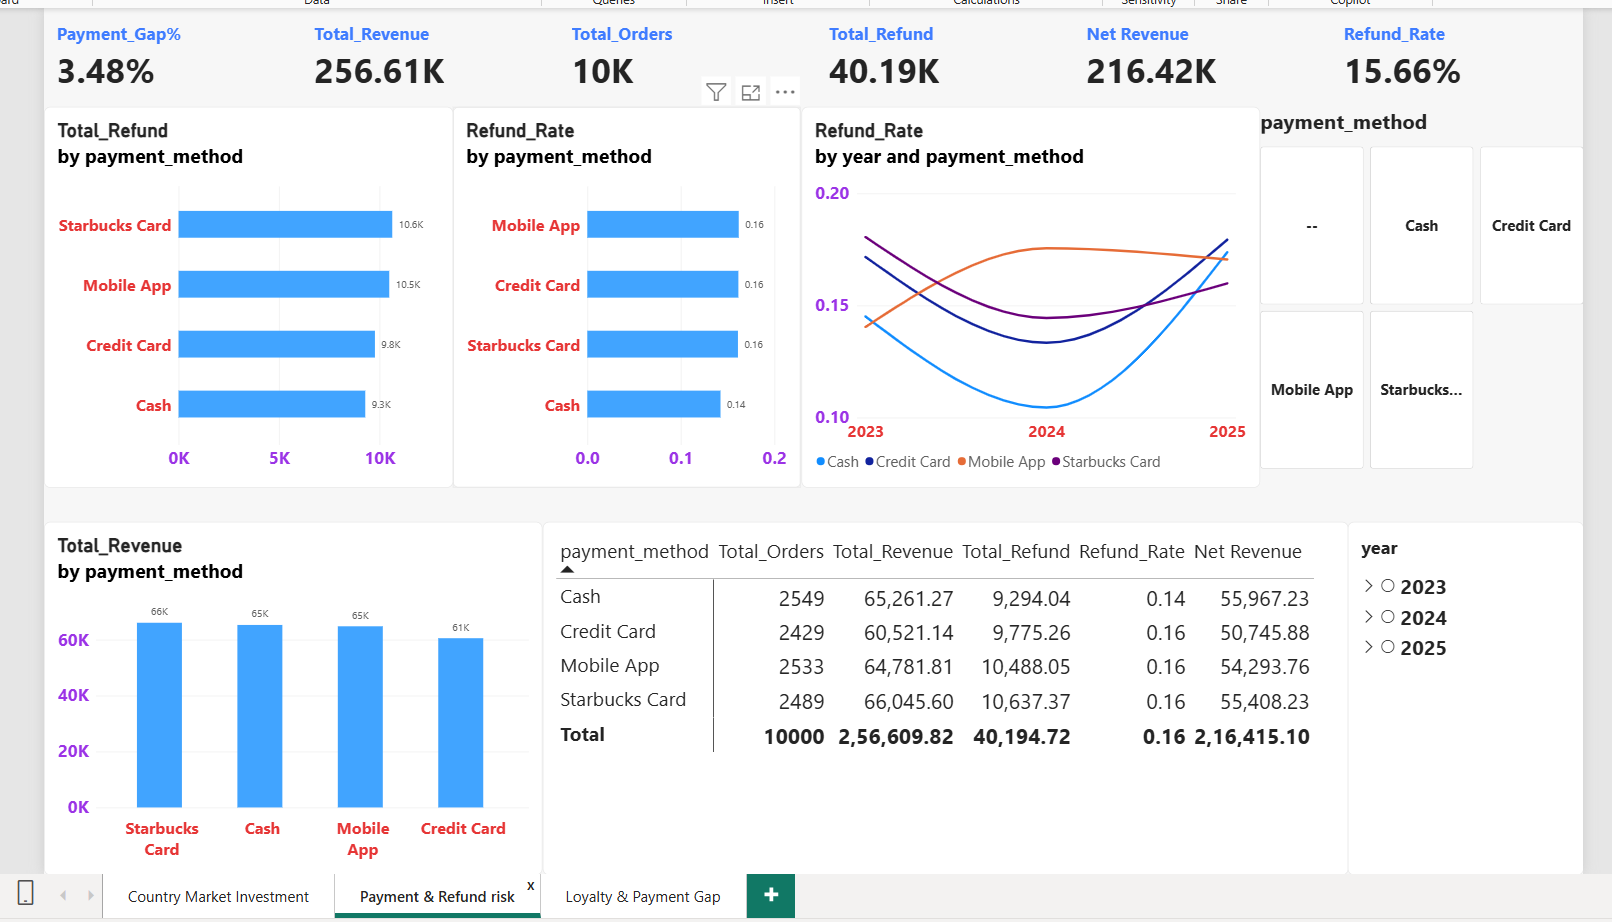

The page's visual inventory and layout, read from the dashboard file:
{"tool":"powerbi","page":{"name":"Payment & Refund risk","canvas":[1920,1080],"ordinal":1},"visuals":[{"type":"cardVisual","fields":{"Data":["public orders.Payment_Gap%","date.Total_Revenue","public orders.Total_Orders","date.Total_Refund","public orders.Net Revenue","date.Refund_Rate"]},"box":[0,0,1920.4,123.5],"z":0},{"type":"barChart","fields":{"Category":["public orders.payment_method"],"Y":["date.Refund_Rate"]},"box":[510.5,123.5,434.3,475.5],"z":1000},{"type":"barChart","fields":{"Category":["public orders.payment_method"],"Y":["date.Total_Refund"]},"box":[0,123.5,510.5,475.5],"z":2000},{"type":"clusteredColumnChart","fields":{"Category":["public orders.payment_method"],"Y":["date.Total_Revenue"]},"box":[0,640.1,621.6,440.5],"z":3000},{"type":"lineChart","fields":{"Category":["date.Date Hierarchy.year"],"Series":["public orders.payment_method"],"Y":["date.Refund_Rate"]},"box":[944.8,123.5,572.2,475.5],"z":5000},{"type":"pivotTable","fields":{"Rows":["public orders.payment_method"],"Values":["public orders.Total_Orders","date.Total_Revenue","date.Total_Refund","date.Refund_Rate","public orders.Net Revenue"]},"box":[621.6,640.1,1004.5,440.5],"z":6000},{"type":"advancedSlicerVisual","fields":{"Values":["public orders.payment_method"]},"box":[1517,123.5,403.4,452.8],"z":7000},{"type":"listSlicer","fields":{"Values":["date.Date Hierarchy.year","date.Date Hierarchy.quarter","date.Date Hierarchy.month","date.Date Hierarchy.day"]},"box":[1626.1,640.1,294.3,440.5],"z":8000}]}

Visuals, with their boxes on the page's 1920x1080 design canvas (x1, y1, x2, y2). These are canvas units, not pixel positions in the 1612x922 screenshot, which may show the page scaled, cropped or inside an application window:
cardVisual - public orders.Payment_Gap% x date.Total_Revenue: left=0, top=0, right=1920, bottom=124
barChart - public orders.payment_method x date.Refund_Rate: left=510, top=124, right=945, bottom=599
barChart - public orders.payment_method x date.Total_Refund: left=0, top=124, right=510, bottom=599
clusteredColumnChart - public orders.payment_method x date.Total_Revenue: left=0, top=640, right=622, bottom=1081
lineChart - date.Date Hierarchy.year x public orders.payment_method: left=945, top=124, right=1517, bottom=599
pivotTable - public orders.payment_method x public orders.Total_Orders: left=622, top=640, right=1626, bottom=1081
advancedSlicerVisual - public orders.payment_method: left=1517, top=124, right=1920, bottom=576
listSlicer - date.Date Hierarchy.year x date.Date Hierarchy.quarter: left=1626, top=640, right=1920, bottom=1081
